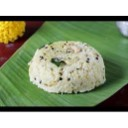venpongal: (30, 44, 105, 91)
